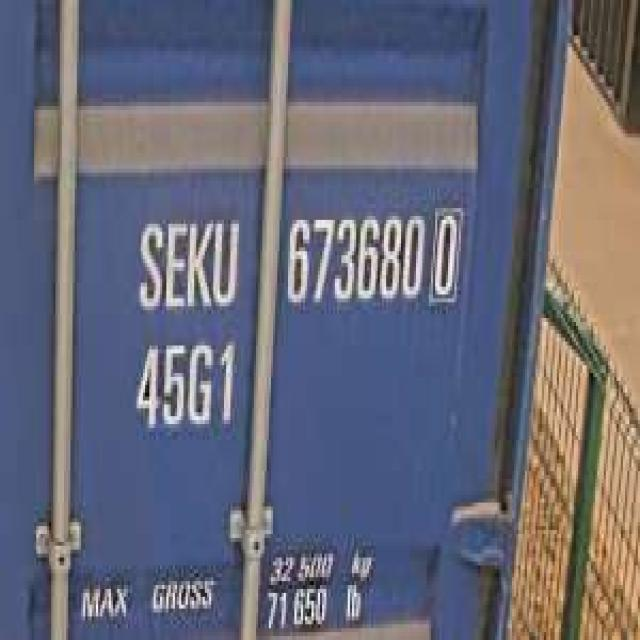dv: (429, 200, 463, 306)
owner: (130, 204, 241, 318)
serial: (282, 200, 426, 318)
size: (128, 334, 239, 439)
